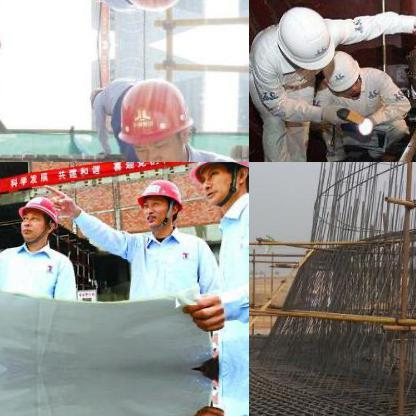Helmet: (110, 72, 199, 161), (270, 3, 336, 78), (137, 178, 185, 230), (13, 196, 61, 244), (320, 49, 366, 99), (189, 162, 248, 200), (109, 0, 200, 17), (88, 82, 106, 112), (87, 0, 108, 8)
